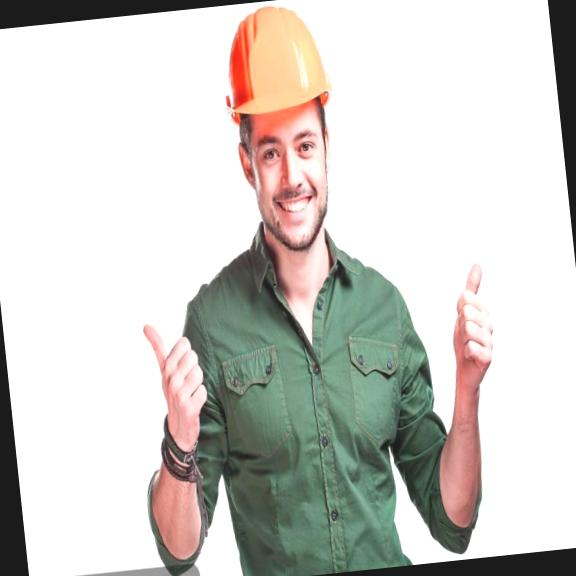no_safety_vest: (204, 228, 431, 576)
